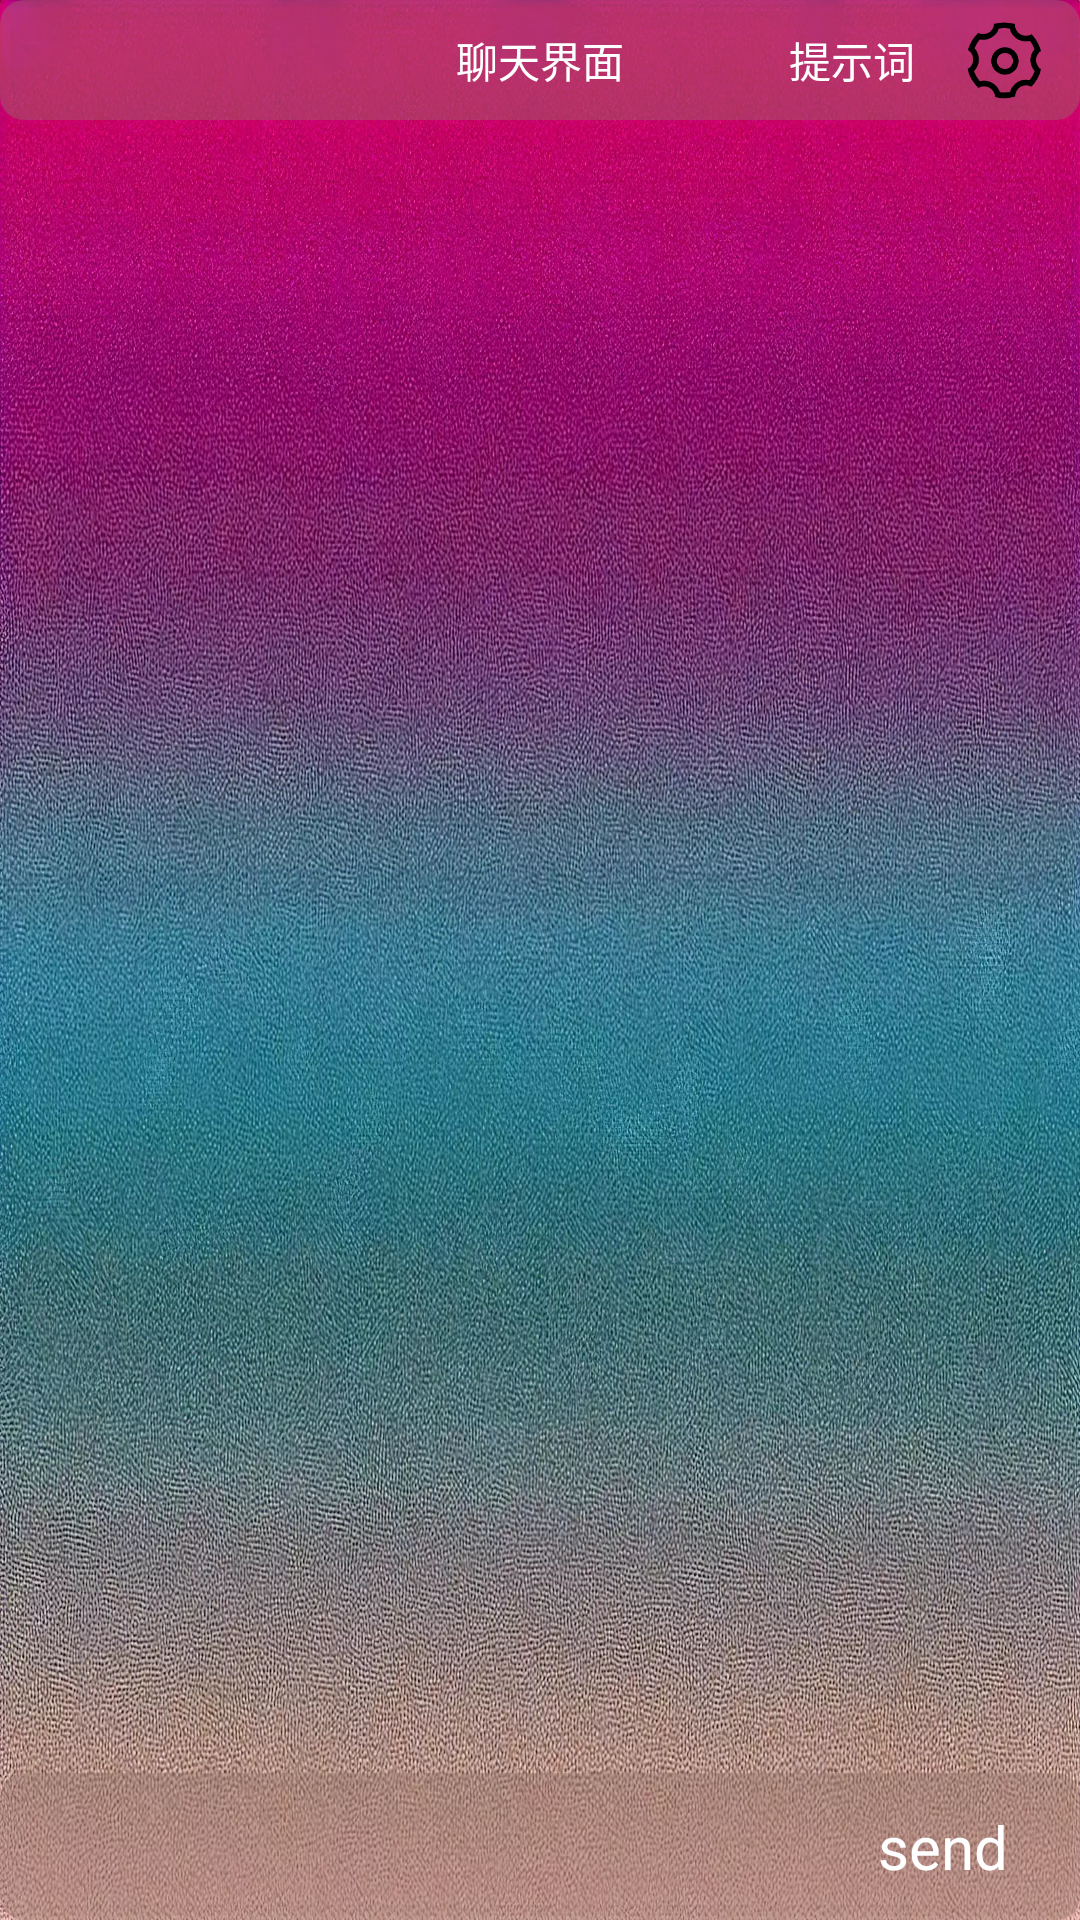

Icons on this 1080 × 1920 Android screen, each with its box as Rect(x1, y1, x2, y2):
settings: Rect(967, 22, 1041, 99)
